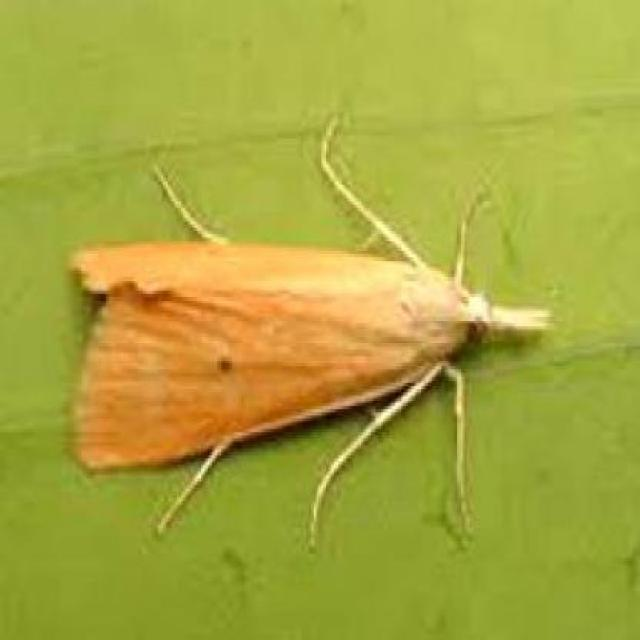stem-borer: (64, 113, 556, 559)
